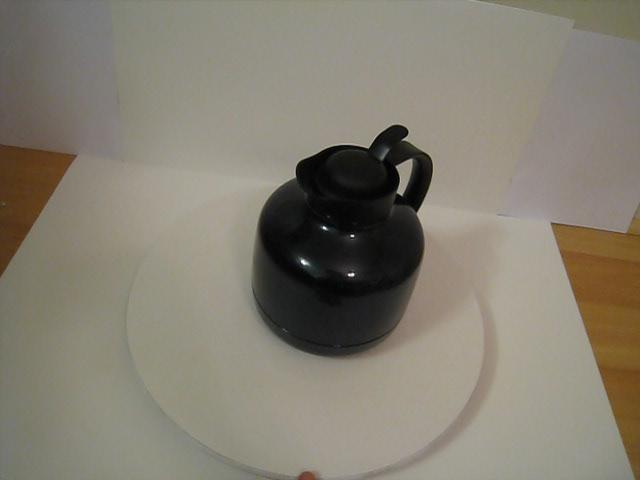pitcher: (244, 95, 439, 390)
